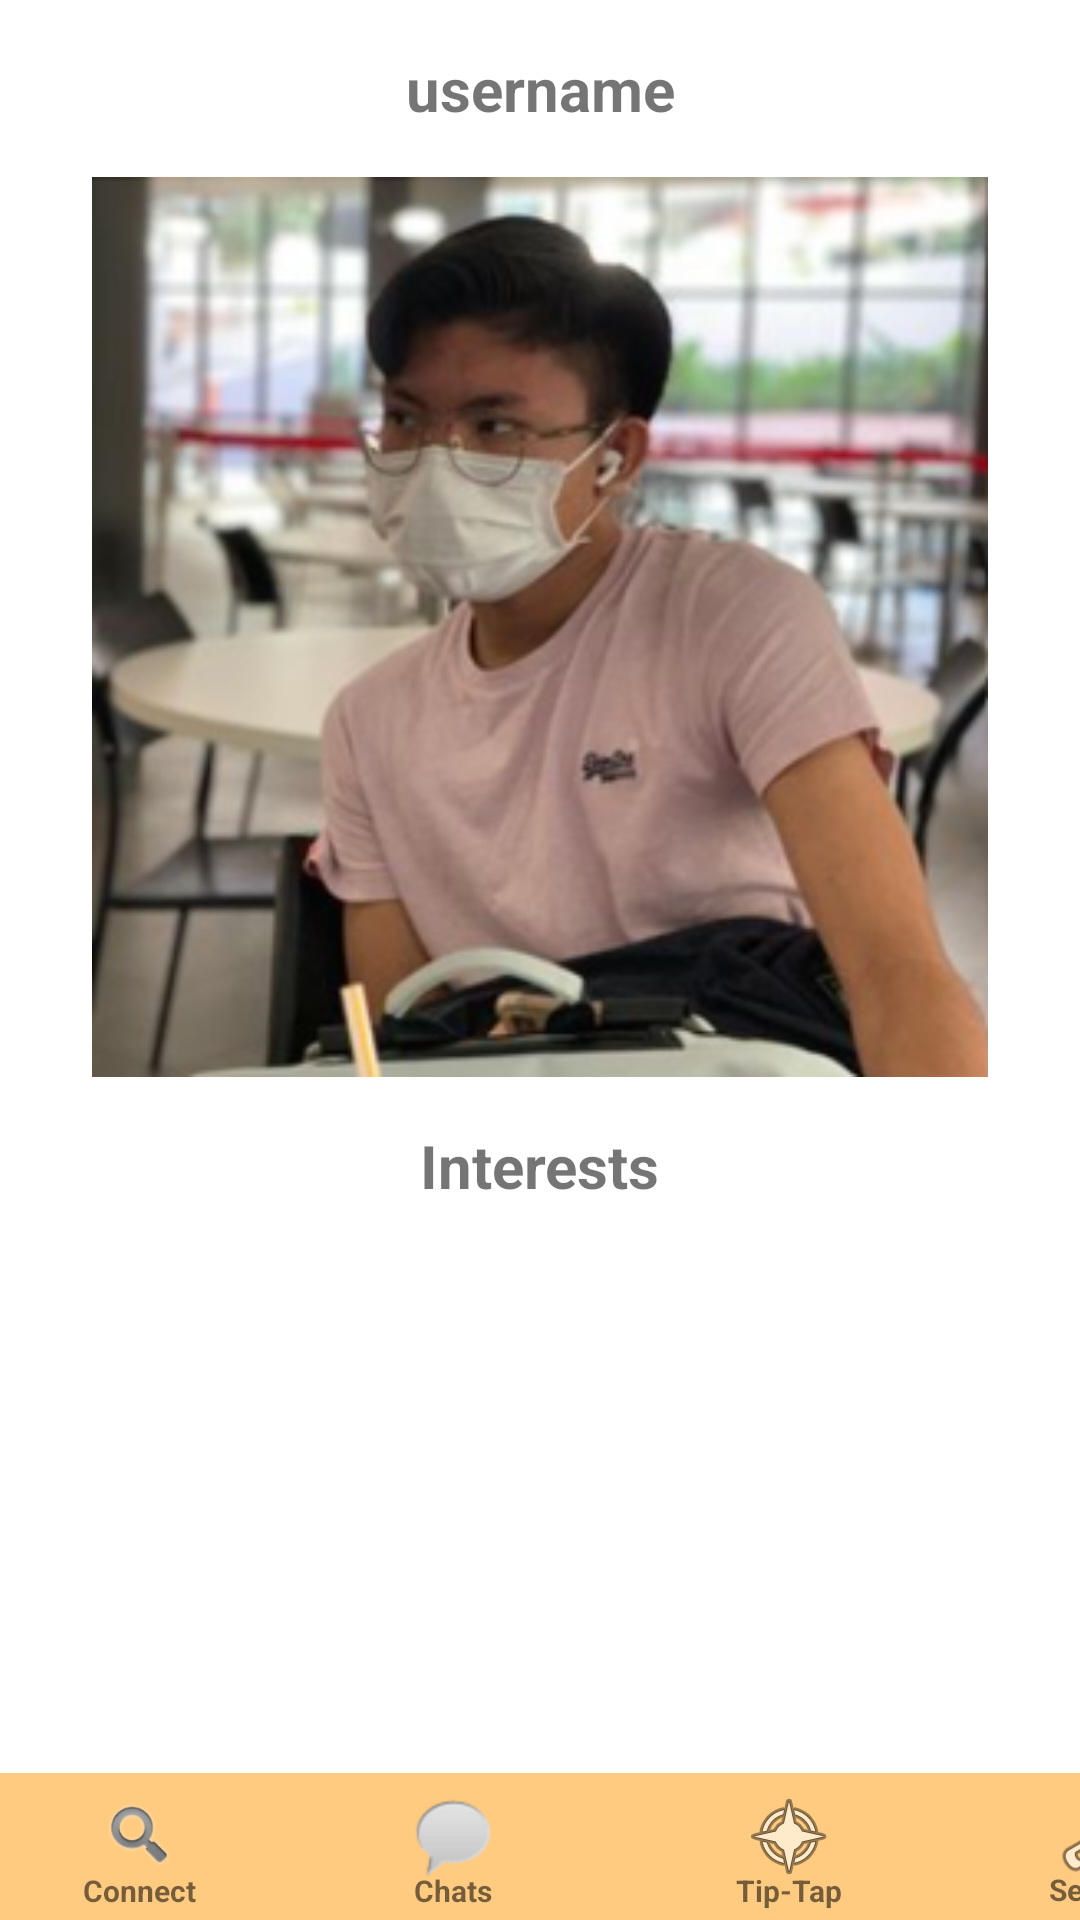

Icon bounding boxes for this 1080x1920 phone screenshot, format (x1, y1, x2, y2):
compass: (751, 1799, 827, 1884)
search category: (111, 1806, 167, 1863)
